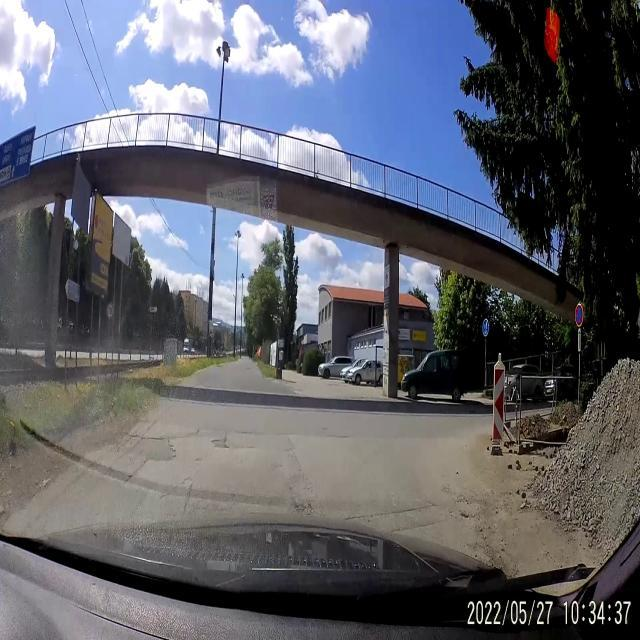Pothole: (128, 430, 176, 466), (292, 496, 322, 518), (211, 434, 230, 455), (180, 474, 197, 488), (234, 428, 254, 436), (193, 456, 206, 464), (193, 428, 204, 437)
